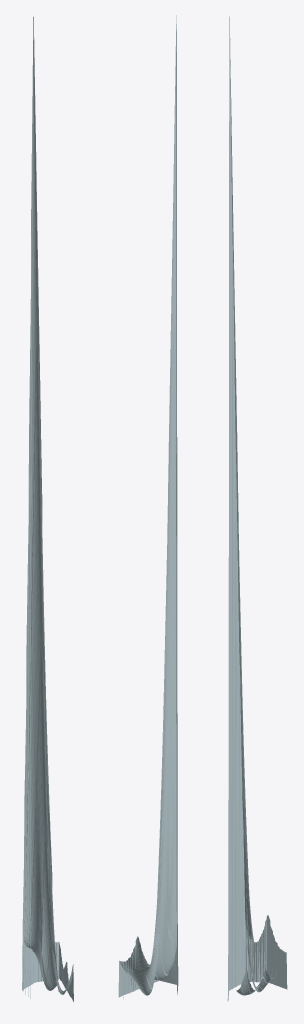
Rendered from hemma.gltf.
3 views of the same model, side by side, from view 1: azimuth 30°, elevation 25°; view 2: azimuth 150°, elevation 25°; view 3: azimuth 330°, elevation 25° (orthographic).
Parts seen in each view (by area): view 1: Renderer Node; view 2: Renderer Node; view 3: Renderer Node.
Part boxes in pixels (<box>): Renderer Node: <box>22,16,73,1001</box>; Renderer Node: <box>118,15,178,999</box>; Renderer Node: <box>227,16,287,1001</box>.
Bounding box in the file's own units: 35.5 × 786 × 43.88.
